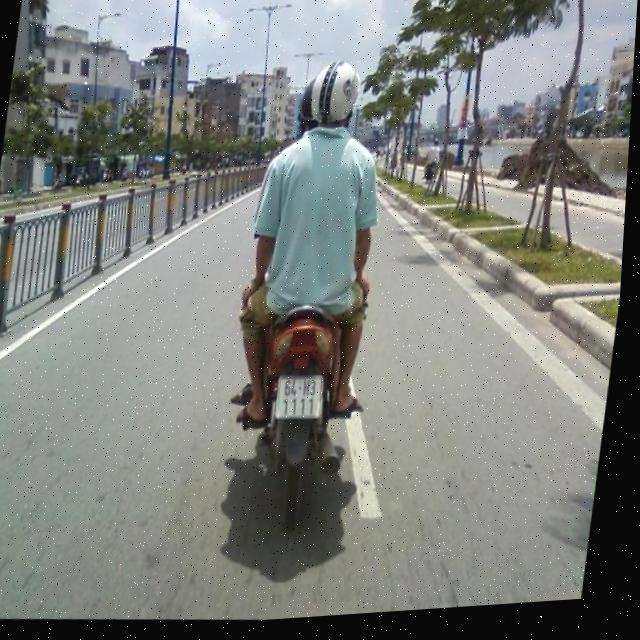motorcycle: (221, 280, 381, 533)
plate: (265, 367, 331, 428)
